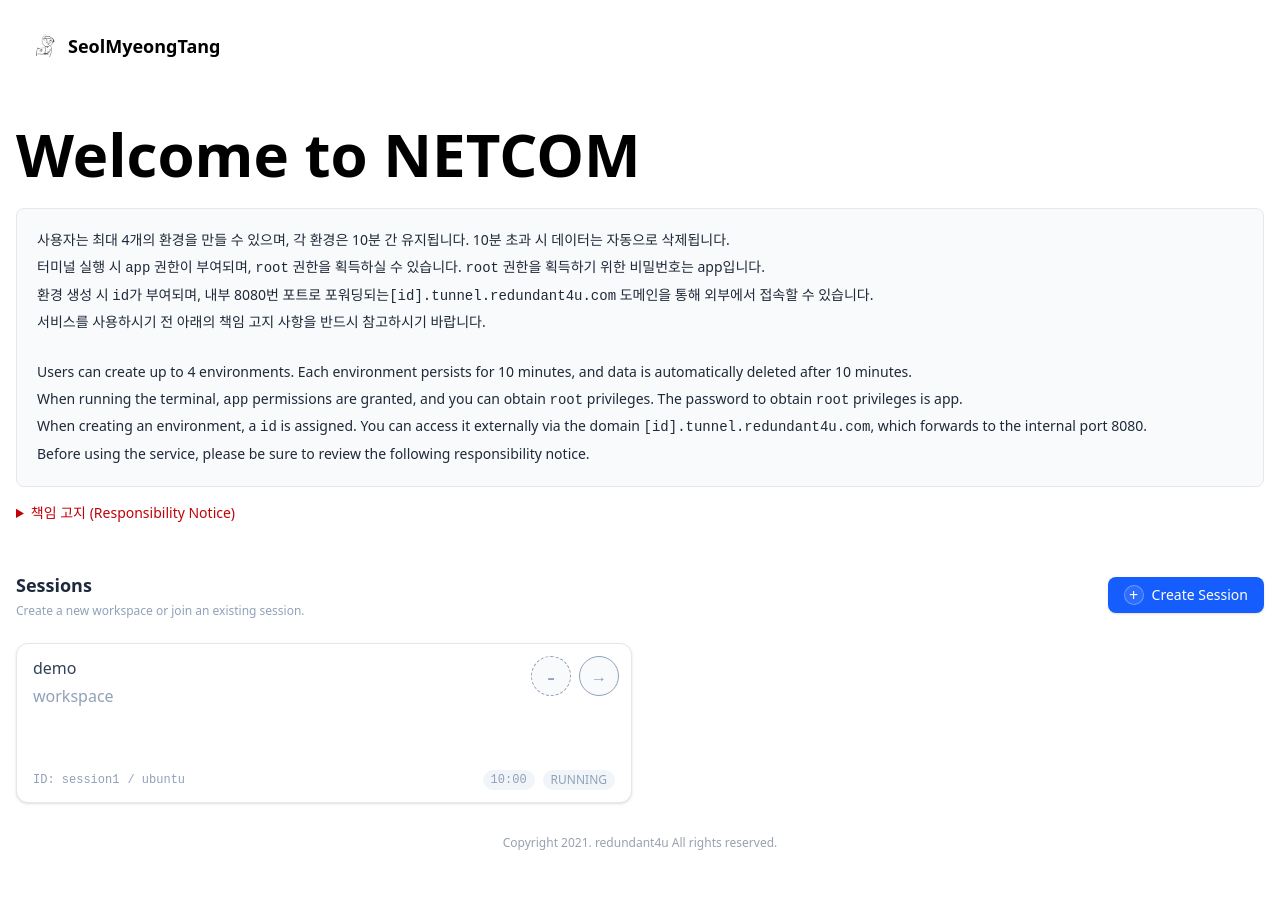
Test: shows create failures and keeps existing resources
Check: the text "demo" is shown, box left=33, top=657, right=76, bottom=679
Click the text "Create Session" at (1200, 595), box left=1152, top=585, right=1248, bottom=605
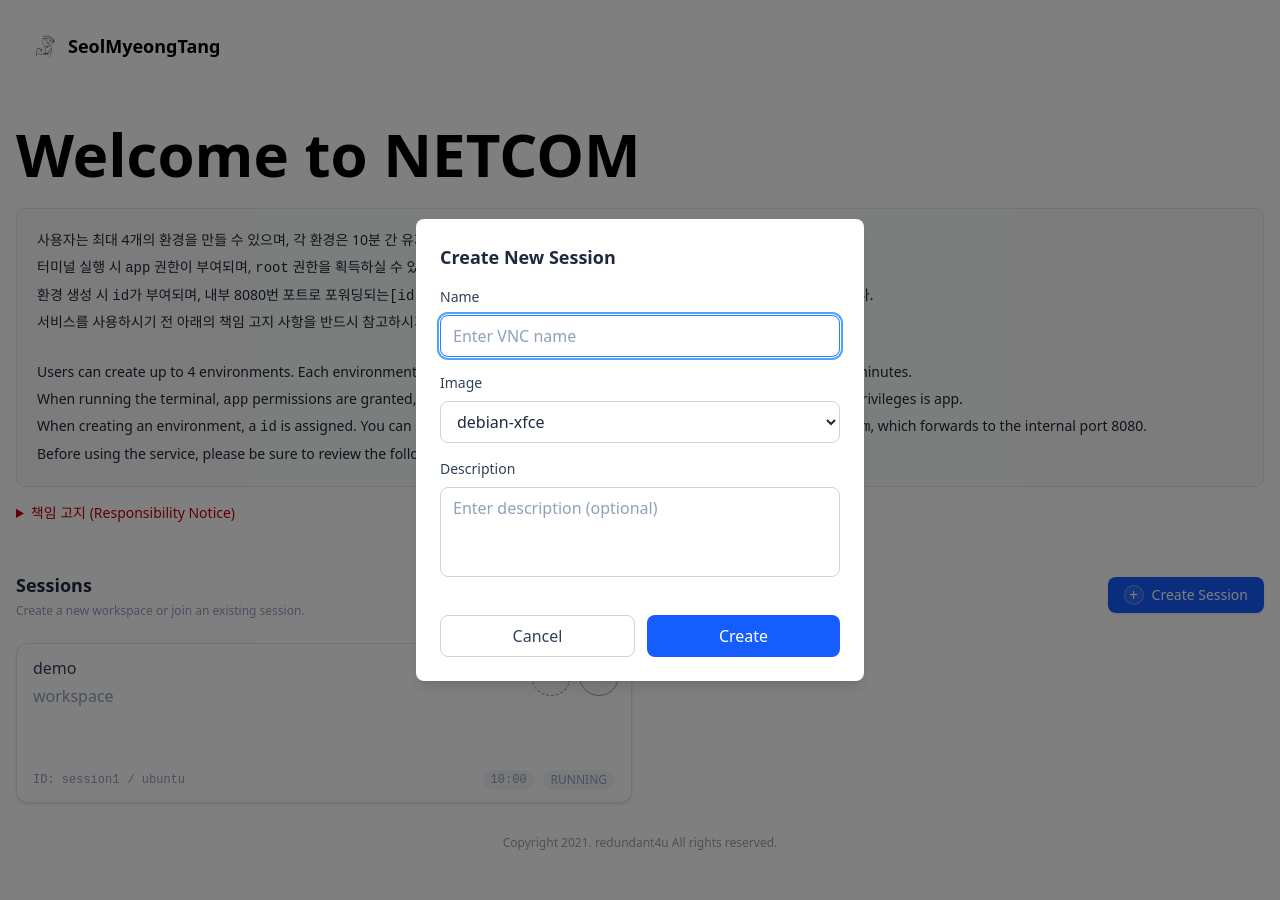
Type "work" into the field labelled "Name" at (640, 336), box left=440, top=315, right=840, bottom=357
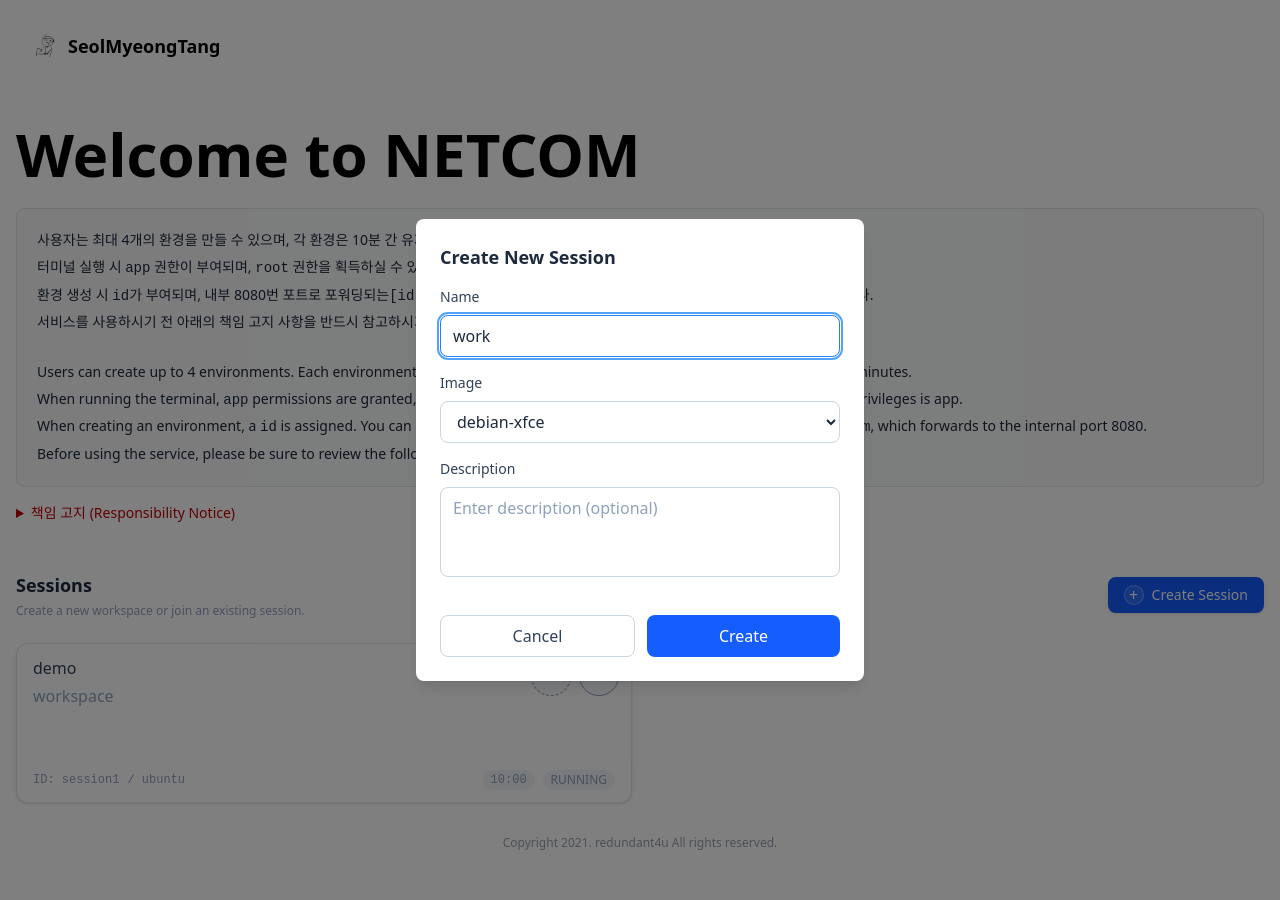
Click the button "Create" at (744, 636), box left=647, top=615, right=840, bottom=657
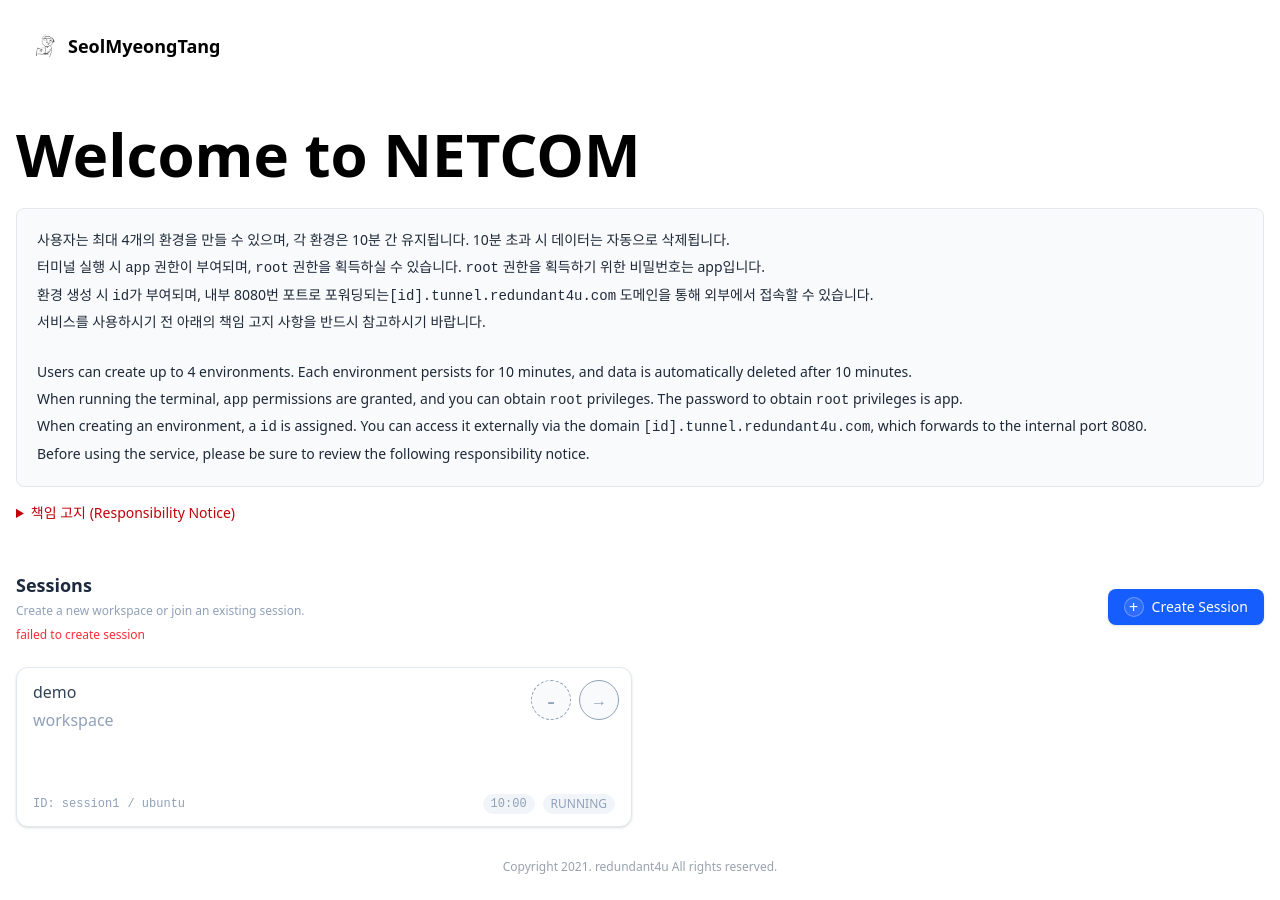
Check: the text "demo" is shown, box left=33, top=681, right=76, bottom=703
Check: the text "failed to create session" is shown, box left=16, top=626, right=145, bottom=643
